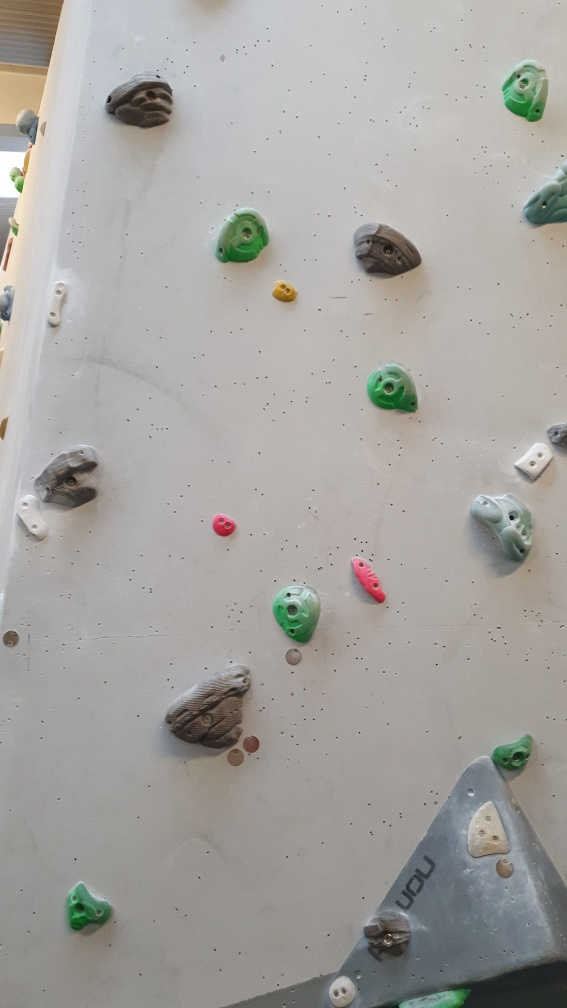Crimp: (463, 800, 512, 856), (349, 549, 390, 613), (511, 432, 558, 484), (46, 276, 71, 336)
Hand Start: (490, 853, 516, 882), (1, 626, 23, 651), (282, 644, 304, 669), (240, 731, 261, 756), (223, 745, 242, 770)
Jug: (161, 665, 252, 748), (471, 488, 535, 567), (32, 447, 106, 510), (350, 219, 424, 280), (103, 70, 174, 130), (215, 205, 273, 268), (500, 59, 550, 127), (274, 582, 323, 648), (367, 362, 423, 414), (486, 728, 538, 775)
Pinch: (272, 278, 305, 307), (208, 512, 239, 537)
